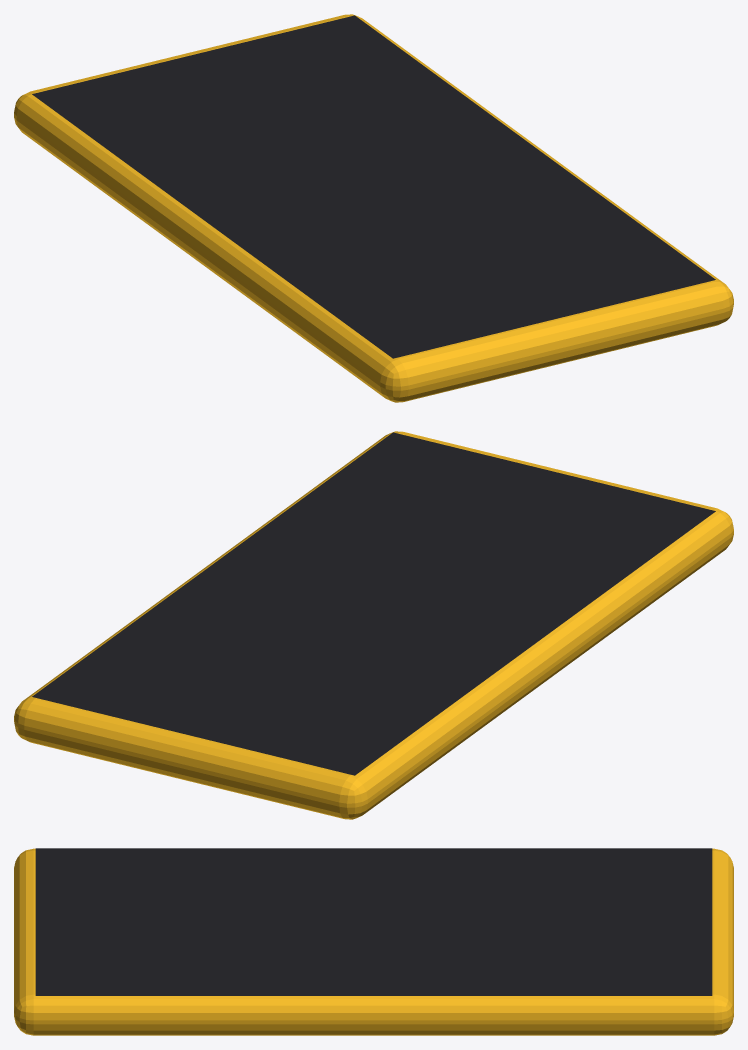
Rendered from motorola-edge-model-147-flagship-2021.glb.
3 views of the same model, one above another, from view 1: azimuth 30°, elevation 25°; view 2: azimuth 150°, elevation 25°; view 3: azimuth 270°, elevation 25° (orthographic). The views are drawn at different scales.
Parts seen in each view (by area): view 1: Phone_Screen, Phone_Body; view 2: Phone_Screen, Phone_Body; view 3: Phone_Screen, Phone_Body.
Part boxes in pixels (left/top/right/bottom): Phone_Screen: left=32, top=15, right=715, bottom=358; Phone_Body: left=14, top=14, right=733, bottom=402; Phone_Screen: left=32, top=432, right=715, bottom=775; Phone_Body: left=14, top=431, right=733, bottom=819; Phone_Screen: left=35, top=848, right=712, bottom=995; Phone_Body: left=14, top=848, right=733, bottom=1035.
Bounding box in the file's own units: 0.0797 × 0.0092 × 0.1511.
